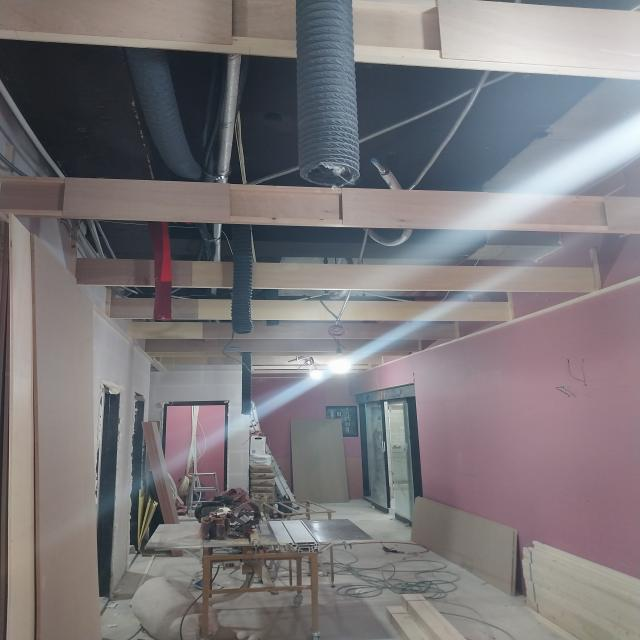board: (31, 234, 102, 640), (411, 497, 515, 596), (417, 496, 518, 596), (290, 419, 349, 504)
concrete bag: (249, 465, 275, 473), (249, 479, 276, 486), (250, 472, 276, 479), (250, 486, 276, 492)
wood: (0, 0, 640, 80), (0, 174, 640, 234), (76, 258, 596, 292), (110, 298, 512, 322), (521, 559, 640, 635), (523, 547, 640, 608), (525, 579, 640, 640), (128, 322, 458, 338), (141, 422, 180, 524), (144, 339, 419, 353), (525, 597, 602, 640), (400, 593, 467, 640), (386, 606, 430, 640)
